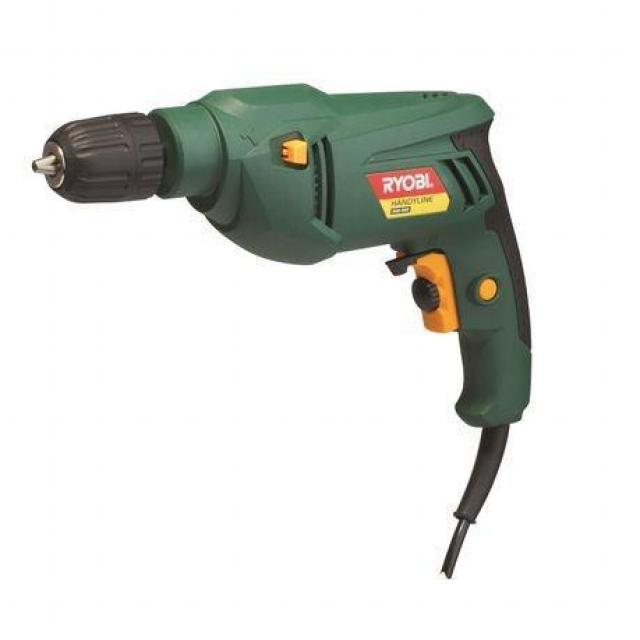drill: (31, 82, 534, 526)
